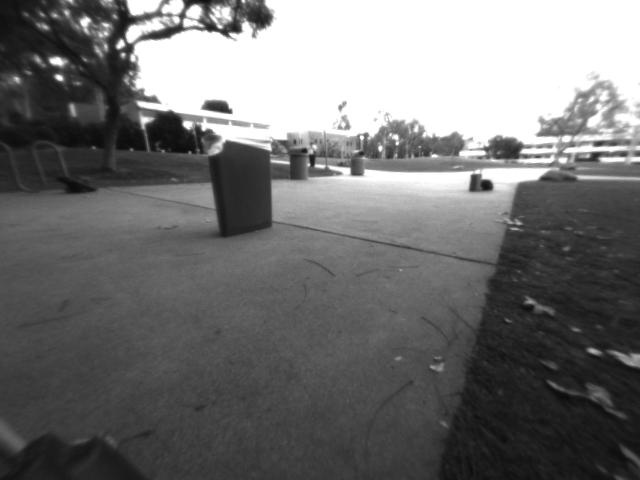trashcan_open: (202, 131, 272, 236)
